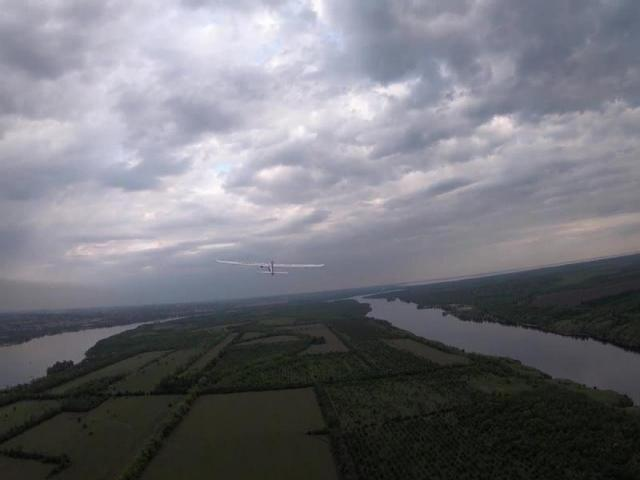hedef: (206, 252, 340, 290)
